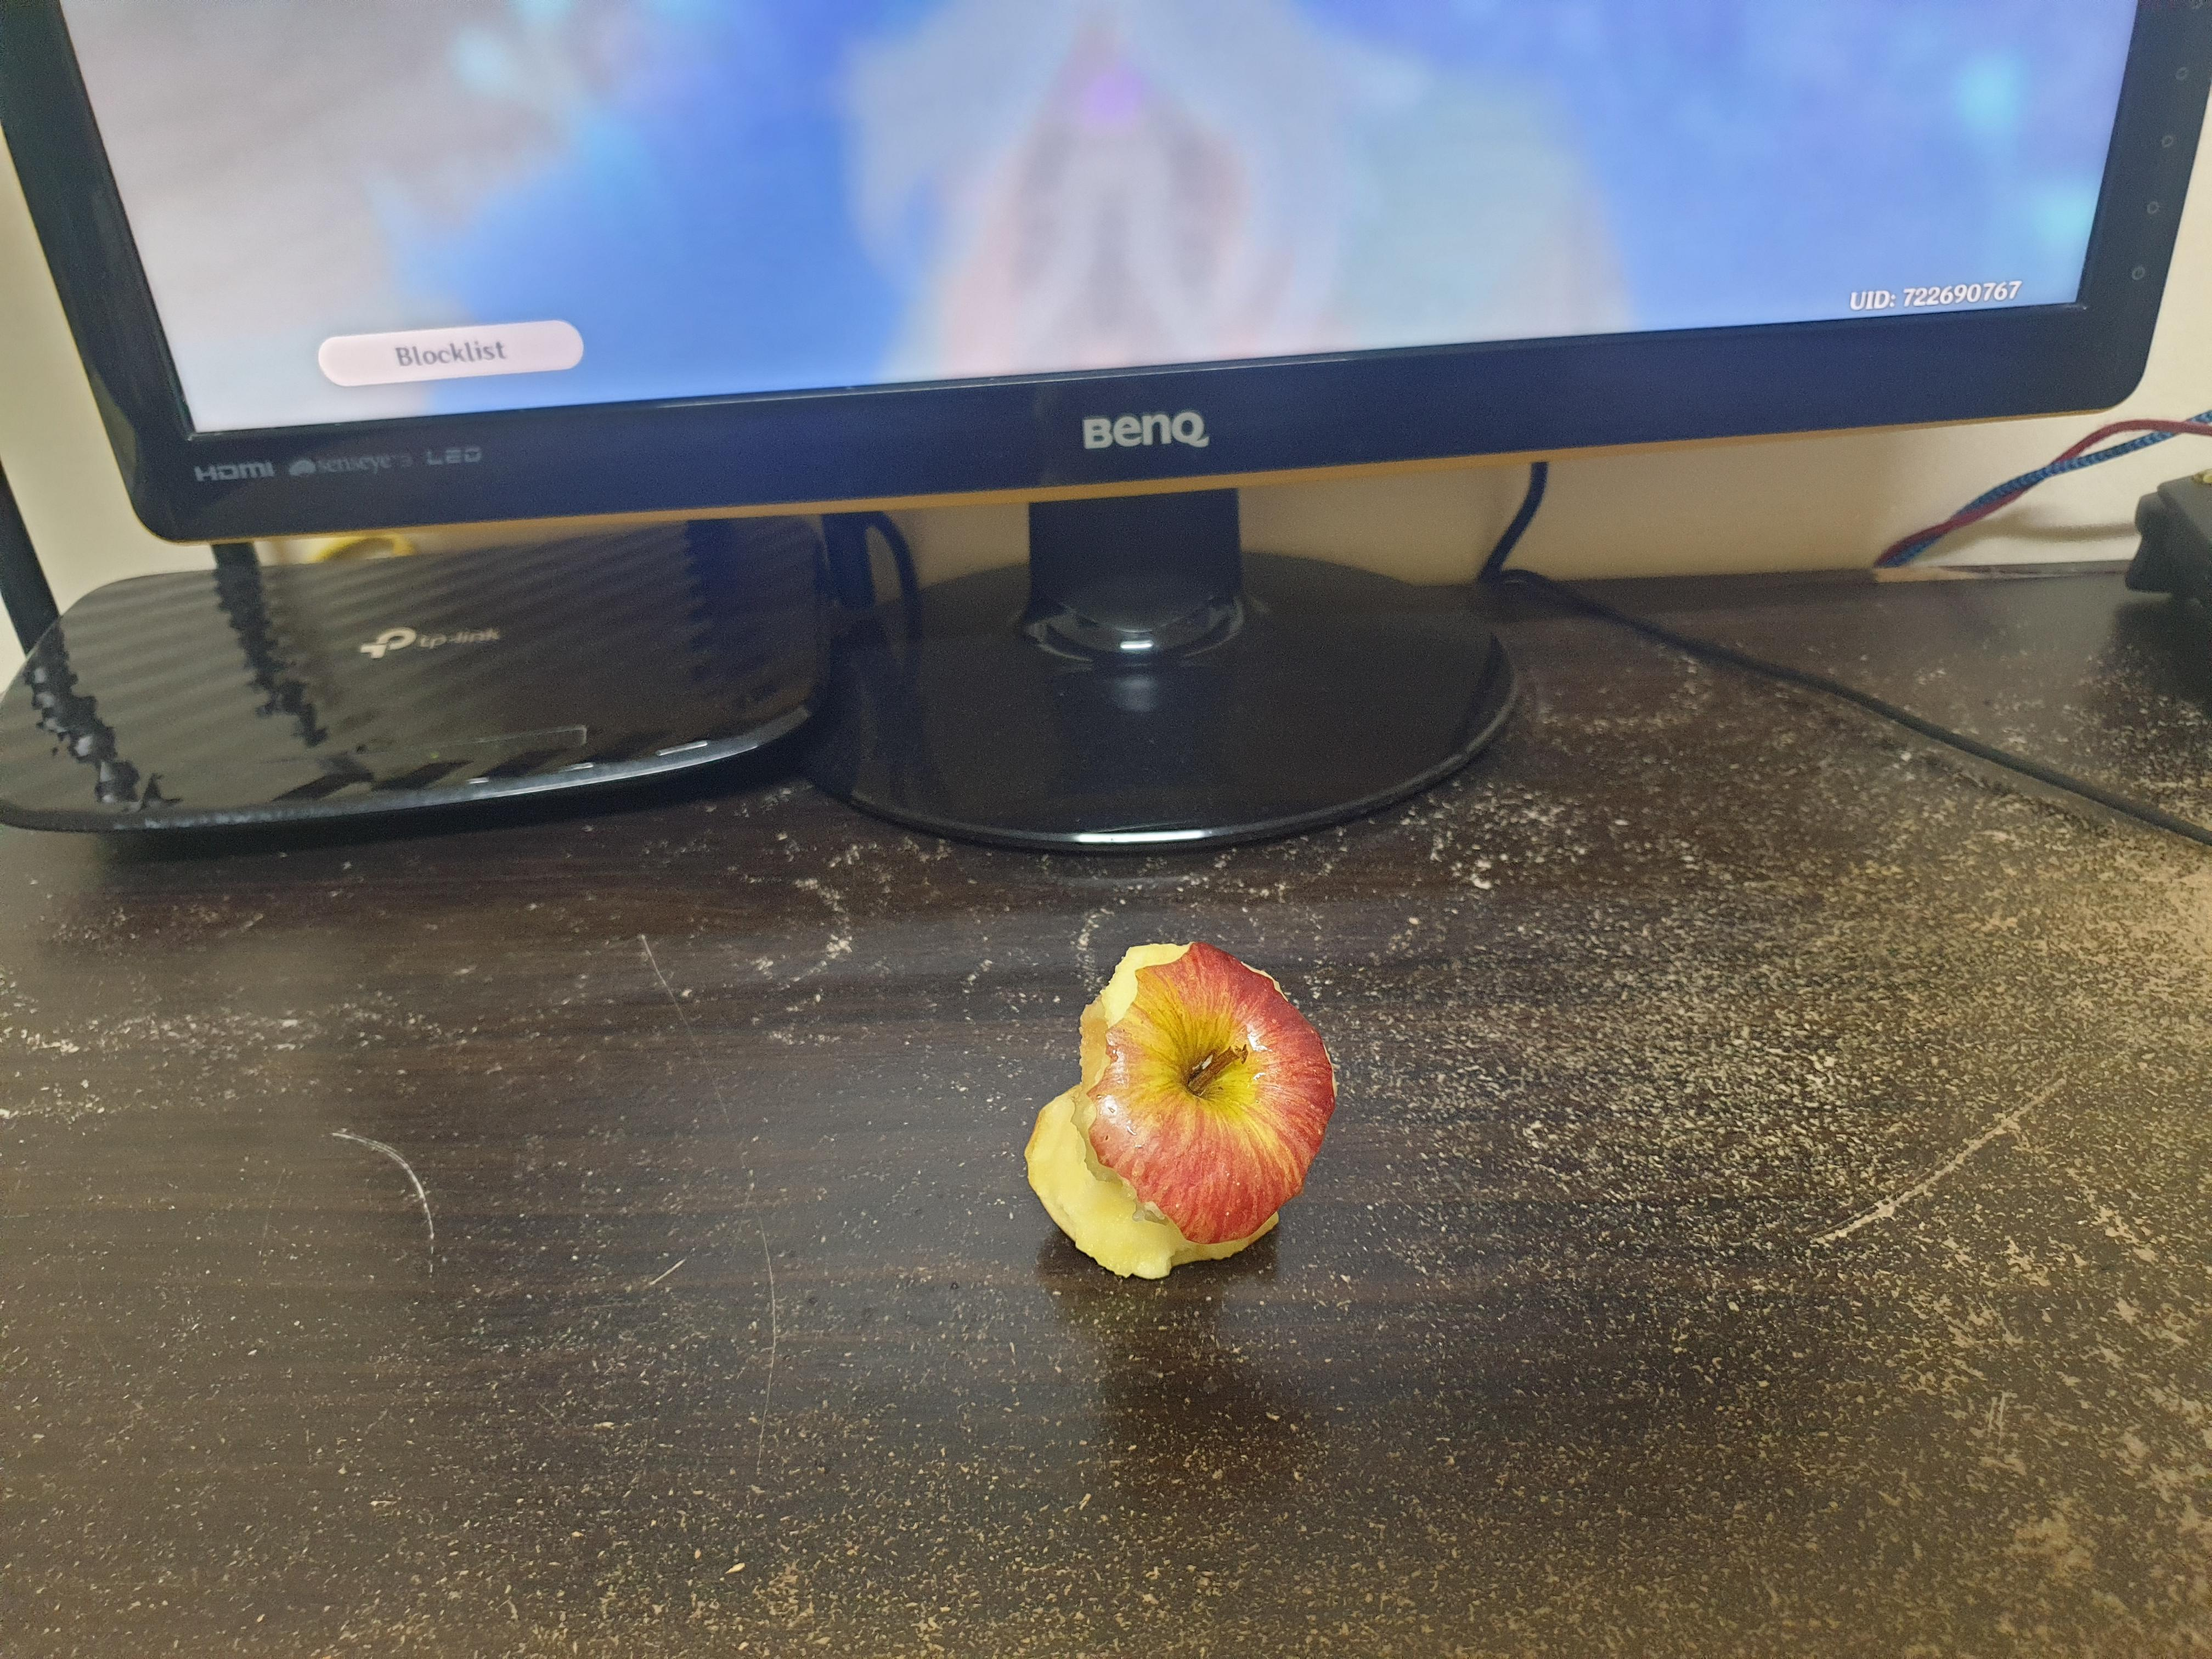Apple: (1005, 920, 1355, 1333)
